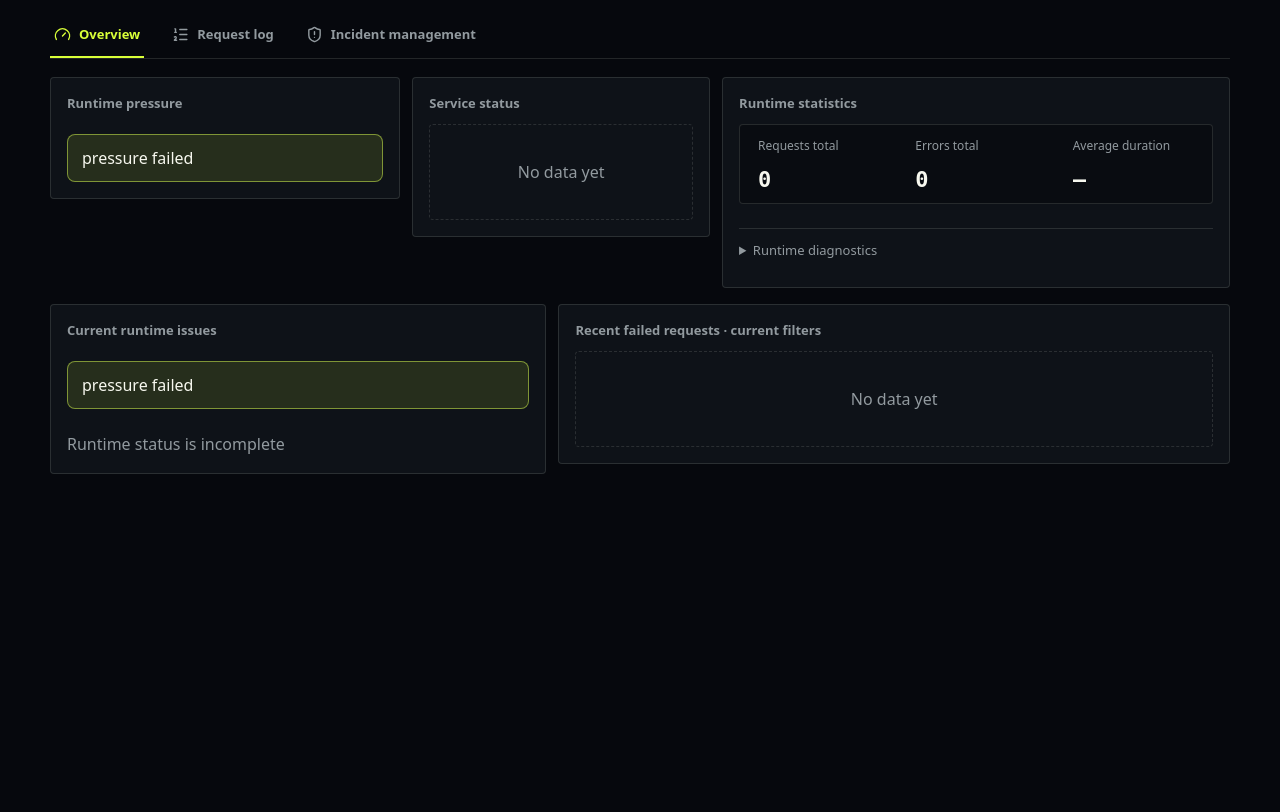
Scenario: operations workspace boundaries › keeps advanced panels compact, exposes failed reads, and prioritizes the request list
Expected: the text "pressure failed" does not show "No data yet", x1=50 y1=77 x2=400 y2=199
Press the mouse on the tab "Request log" at (223, 35), box x1=168 y1=12 x2=278 y2=58
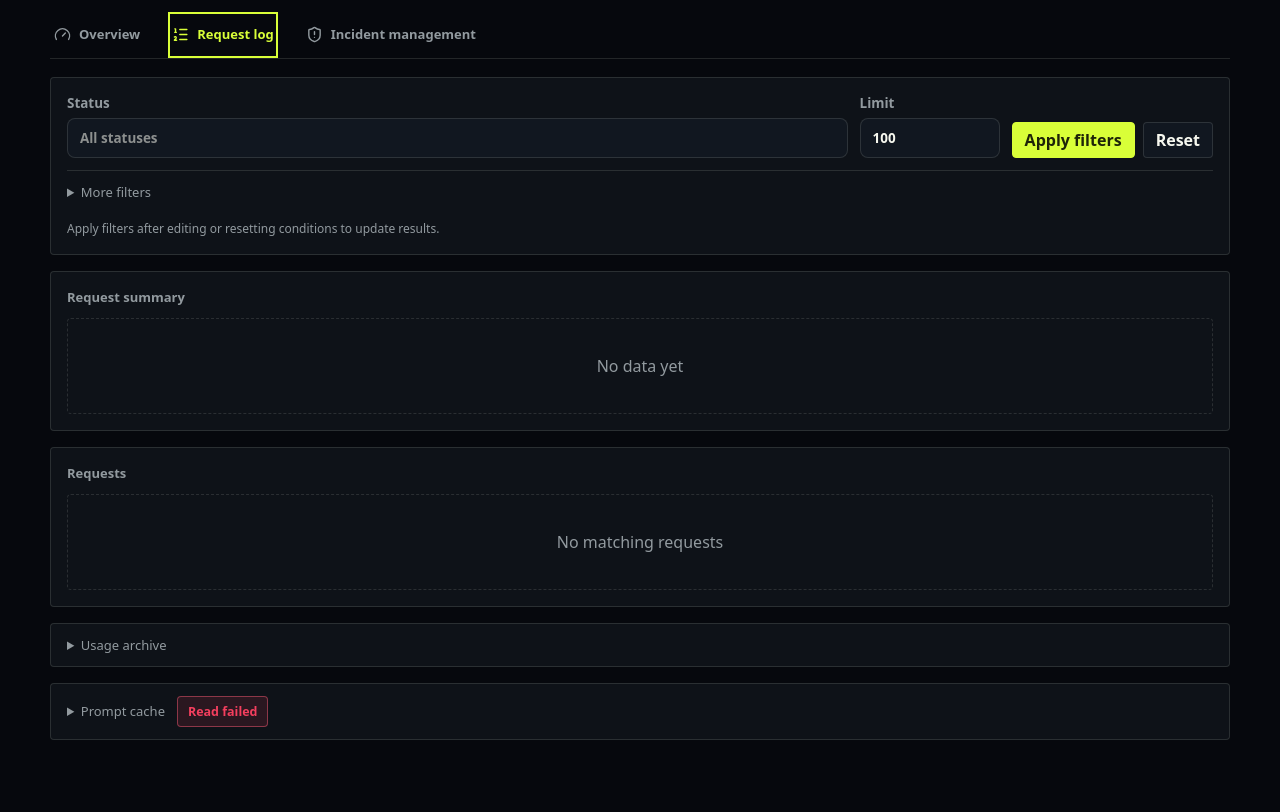
Expected: the text "cache failed" is not shown
Expected: the text "Read failed" is shown, x1=177 y1=696 x2=268 y2=727
Click the text "Prompt cache" at (123, 711), box x1=81 y1=702 x2=165 y2=720
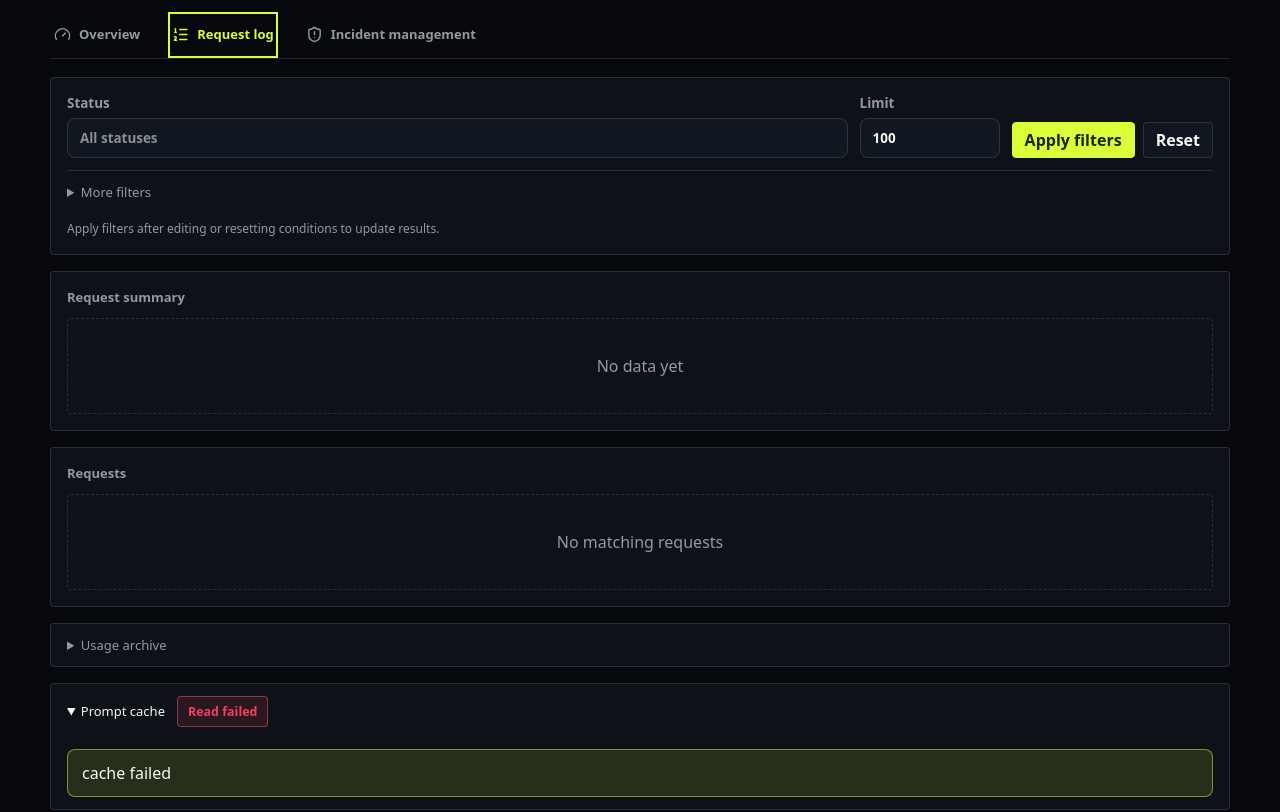
Expected: the text "cache failed" is shown, x1=67 y1=749 x2=1213 y2=797
